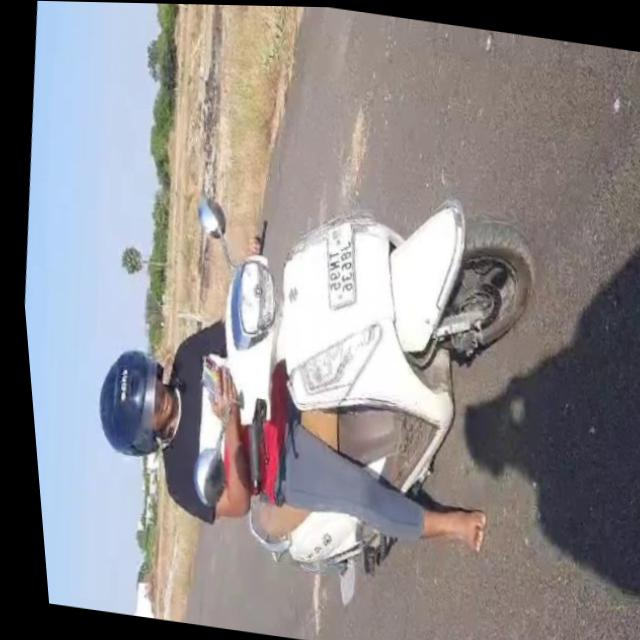USING_MOBILE: (81, 322, 232, 465)
